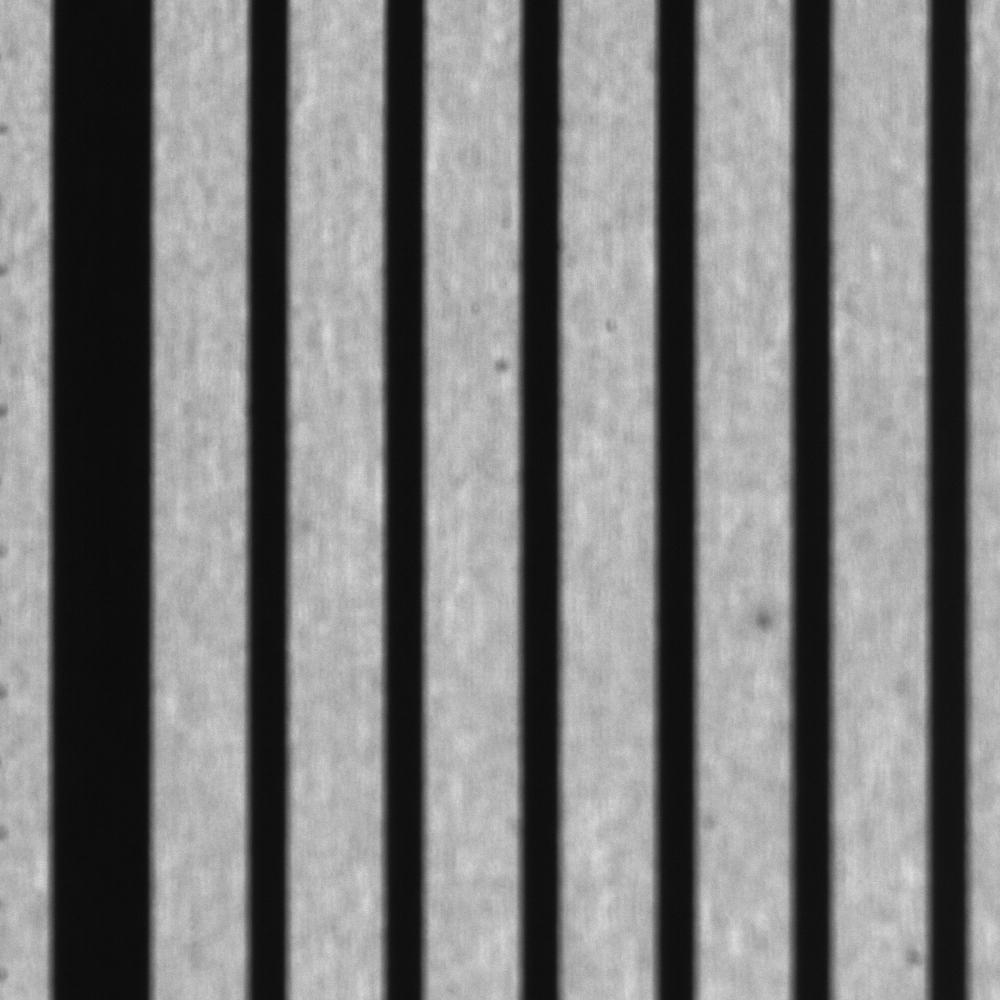Etching: (741, 597, 786, 645), (481, 342, 517, 386)
